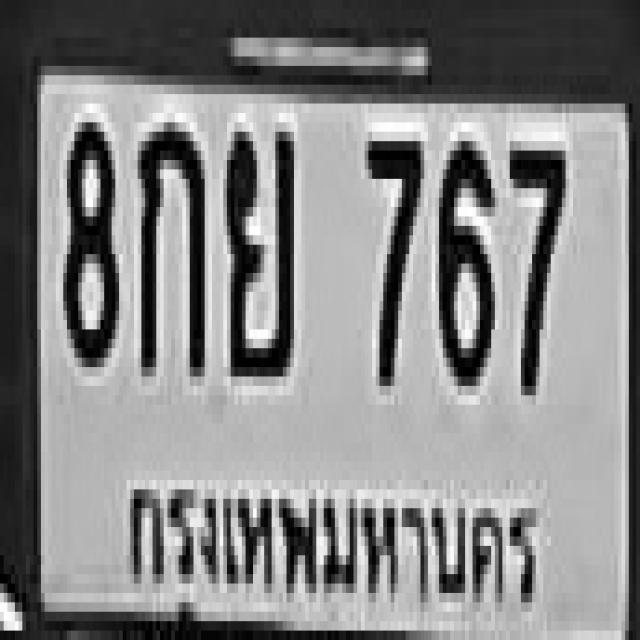10GorGai: (134, 113, 201, 367)
43YorYak: (223, 122, 290, 367)
6: (436, 132, 492, 376)
7: (506, 141, 562, 386), (362, 132, 418, 376)
8: (60, 113, 116, 358)
Bangkok: (117, 442, 540, 619)
